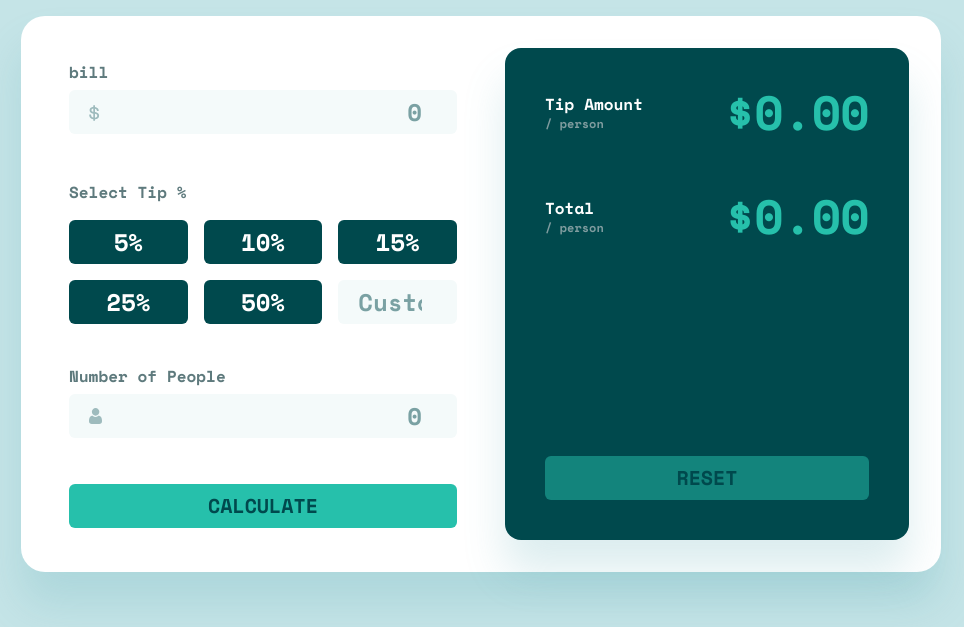
Scenario: Tip Calculator App › calculates tip and total per person when all inputs are valid
The image size is (964, 627).
Type "100" into the number field labelled "bill" at (263, 112), box top-left (69, 90), bottom-right (457, 134)
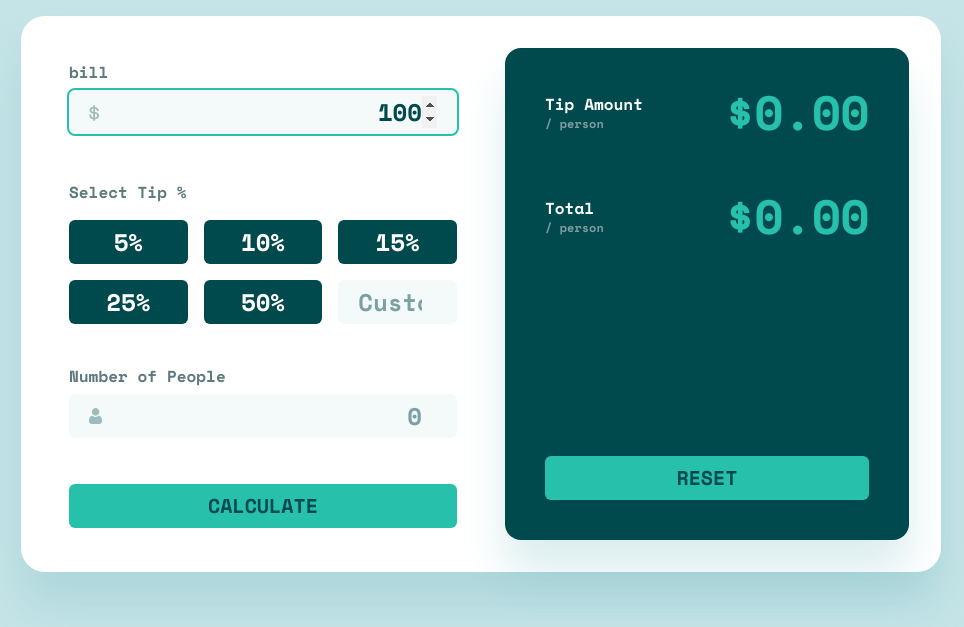
Click the radio button labelled "10%" at (263, 242), box top-left (204, 220), bottom-right (322, 264)
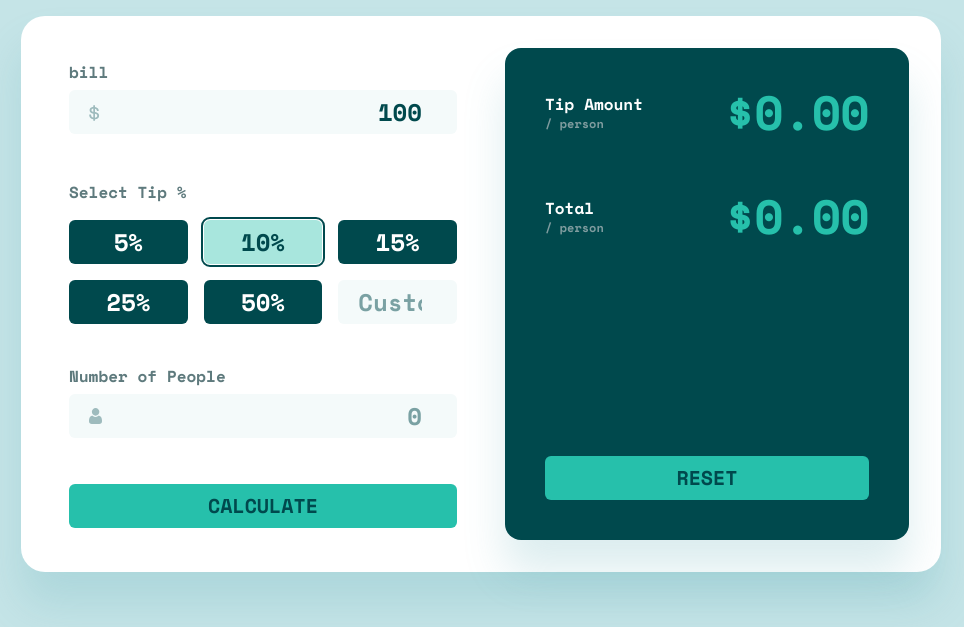
Type "4" into the number field labelled "Number of People" at (263, 416), box top-left (69, 394), bottom-right (457, 438)
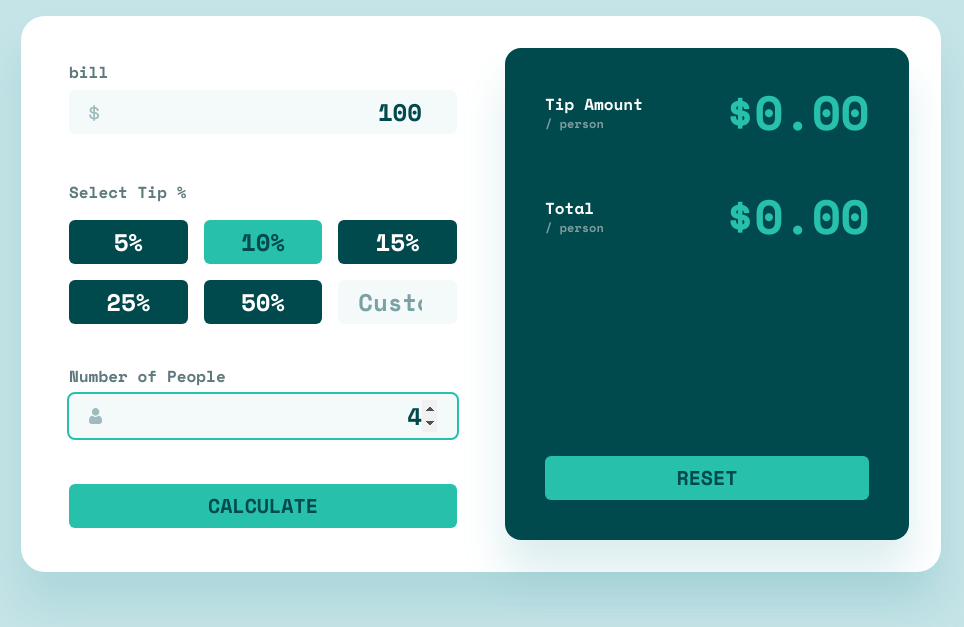
Click the button "Calculate" at (263, 506), box top-left (69, 484), bottom-right (457, 528)
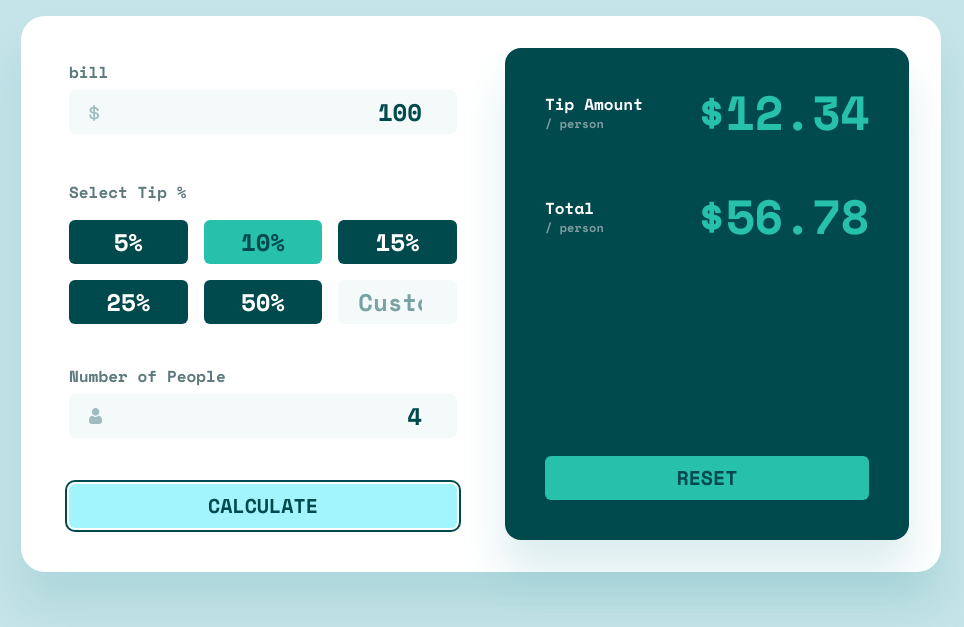
Expected: the text "$12.34" is shown, top-left (697, 88), bottom-right (869, 136)
Expected: the text "$56.78" is shown, top-left (697, 192), bottom-right (869, 240)
